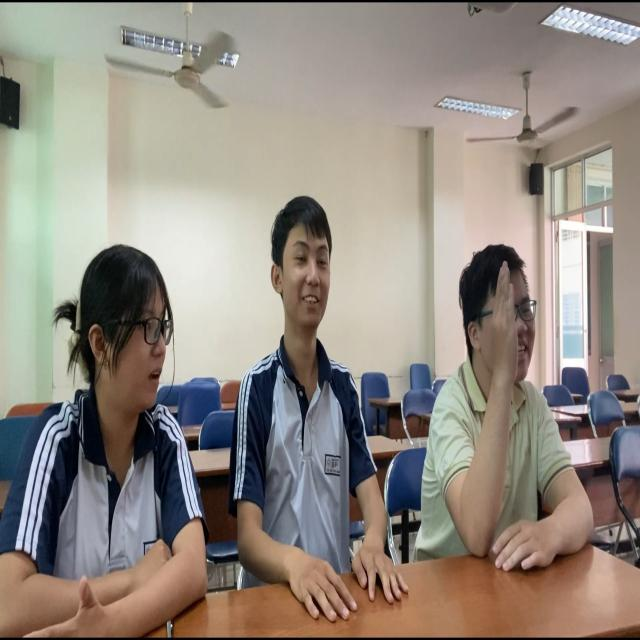raise_hand: (408, 247, 602, 568)
